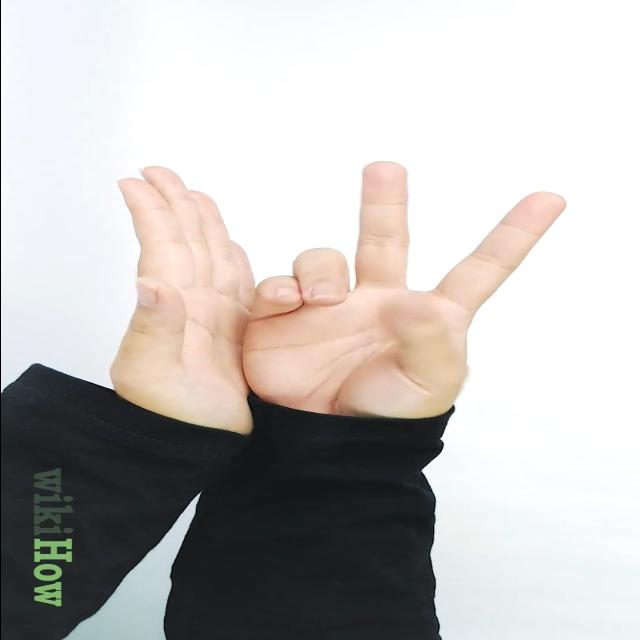Scissors: (240, 160, 568, 419)
